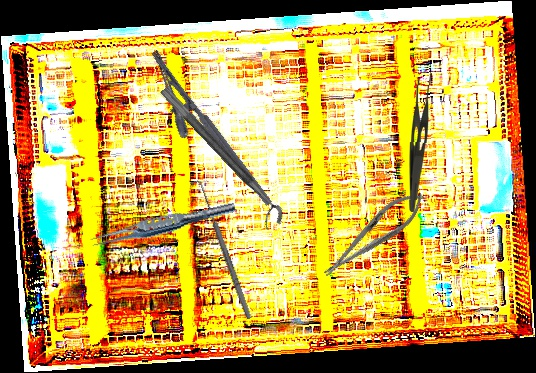Dressing Forceps: (408, 72, 434, 213)
Fixation Ring: (149, 85, 289, 234)
Hook Surgical: (190, 178, 254, 322)
Needle Holder: (130, 48, 273, 223), (315, 183, 432, 286)
Tissue Forceps: (89, 196, 237, 253)
